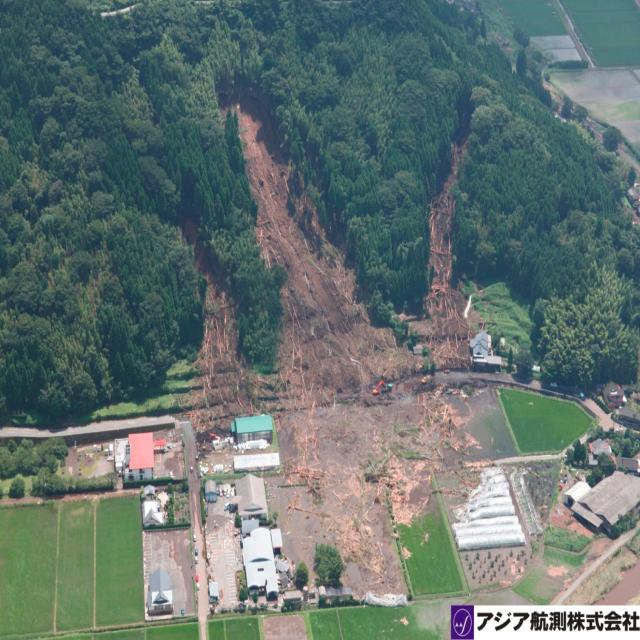Debris-flow: (185, 105, 518, 600)
